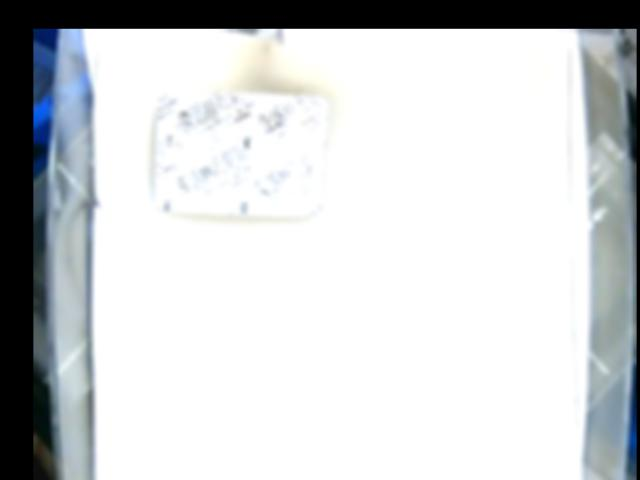Medicine: (151, 89, 330, 215)
